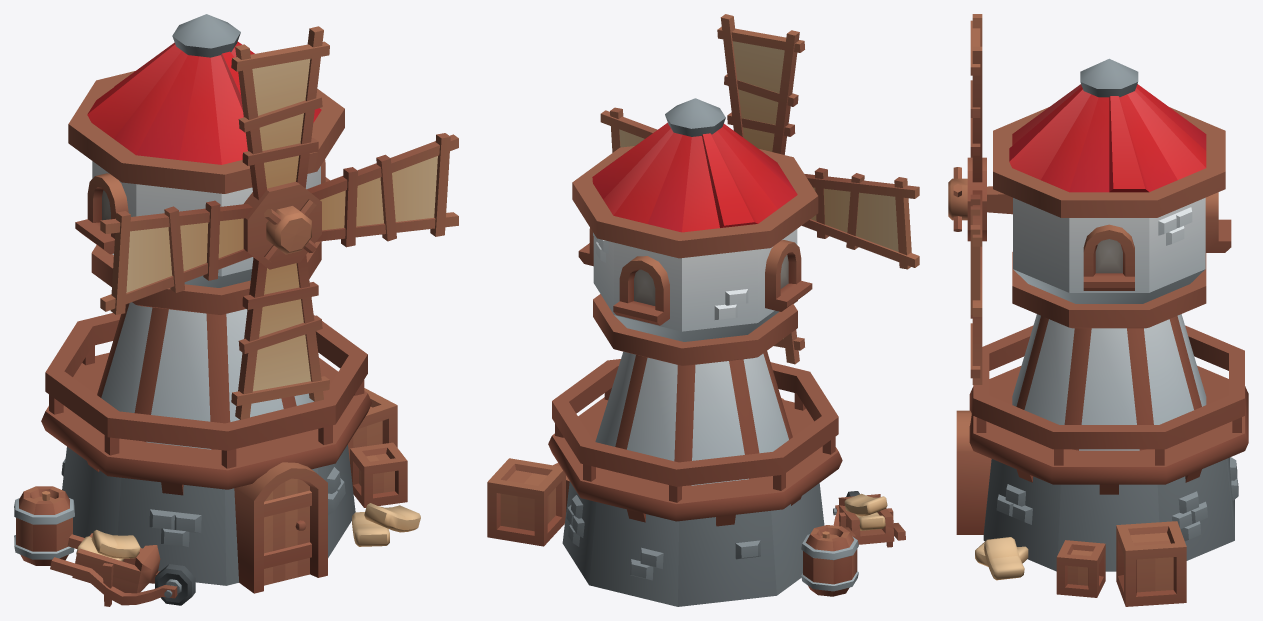
Rendered from kk_windmill.glb.
3 renders of one model, left to right at view 1: azimuth 30°, elevation 25°; view 2: azimuth 150°, elevation 25°; view 3: azimuth 270°, elevation 25°, orthographic. The views are drawn at different scales.
Visible parts, largest first — view 1: building_windmill_red, building_windmill_top_fan_red, building_windmill_top_red; view 2: building_windmill_red, building_windmill_top_red, building_windmill_top_fan_red; view 3: building_windmill_red, building_windmill_top_red, building_windmill_top_fan_red.
Boxes of the visible parts, x1,y1,x2,y2 form: building_windmill_red: (14, 302, 420, 606); building_windmill_top_fan_red: (100, 26, 458, 419); building_windmill_top_red: (68, 14, 344, 314); building_windmill_red: (487, 351, 905, 606); building_windmill_top_red: (572, 98, 818, 365); building_windmill_top_fan_red: (600, 14, 919, 364); building_windmill_red: (956, 314, 1248, 606); building_windmill_top_red: (987, 58, 1231, 328); building_windmill_top_fan_red: (948, 14, 986, 384).
Size of the model in its own units: 1.13 by 1.46 by 0.8165.
1 material, 1 textured.
